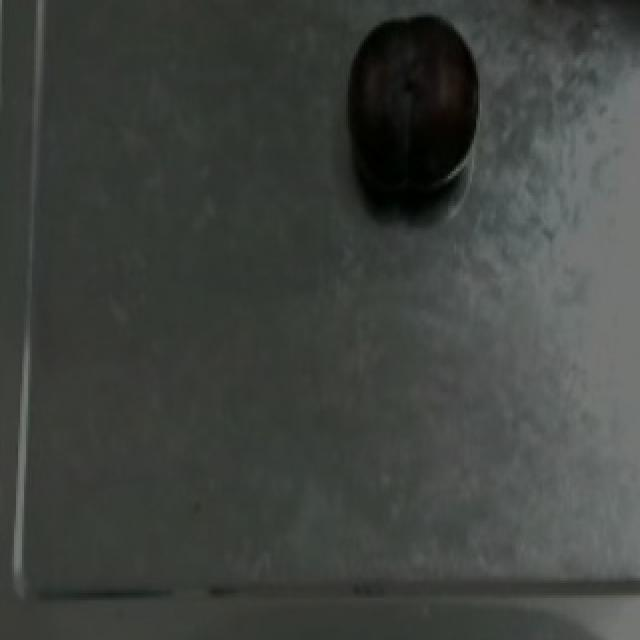Fruit: (332, 0, 492, 216)
